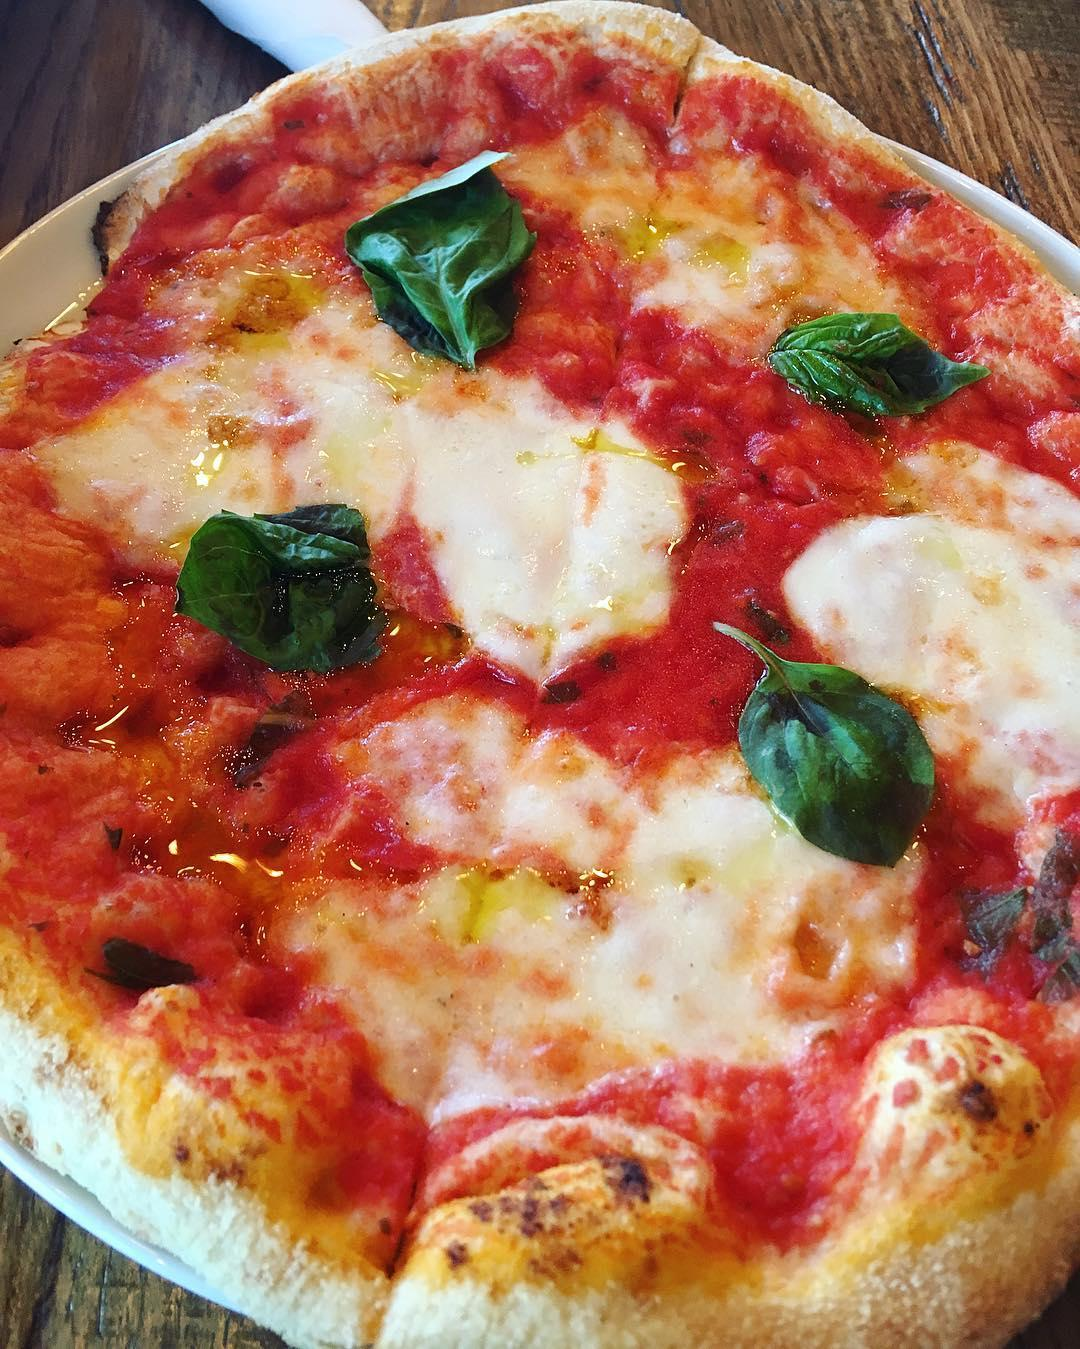Basil: (694, 609, 948, 886), (344, 134, 542, 378), (172, 492, 395, 690), (758, 294, 994, 454)
Cheese: (312, 717, 866, 1102), (792, 446, 1080, 788), (418, 373, 698, 708), (88, 328, 402, 510)
Pizza: (2, 0, 1080, 1349)
